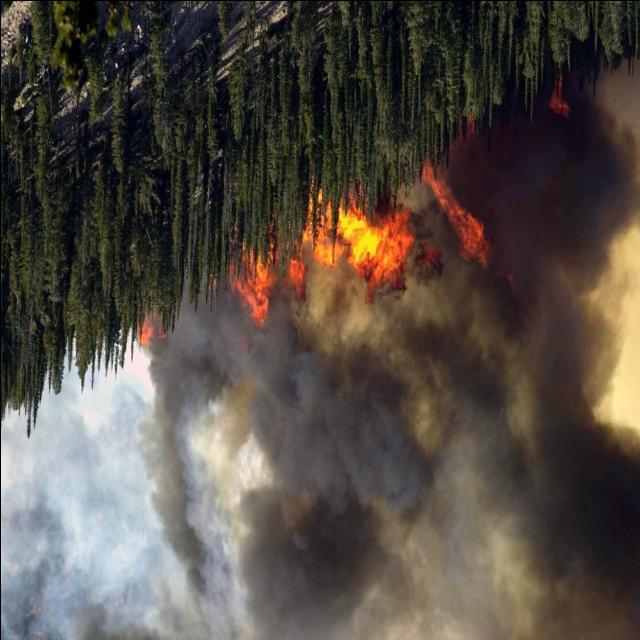Fire: (228, 182, 484, 324)
